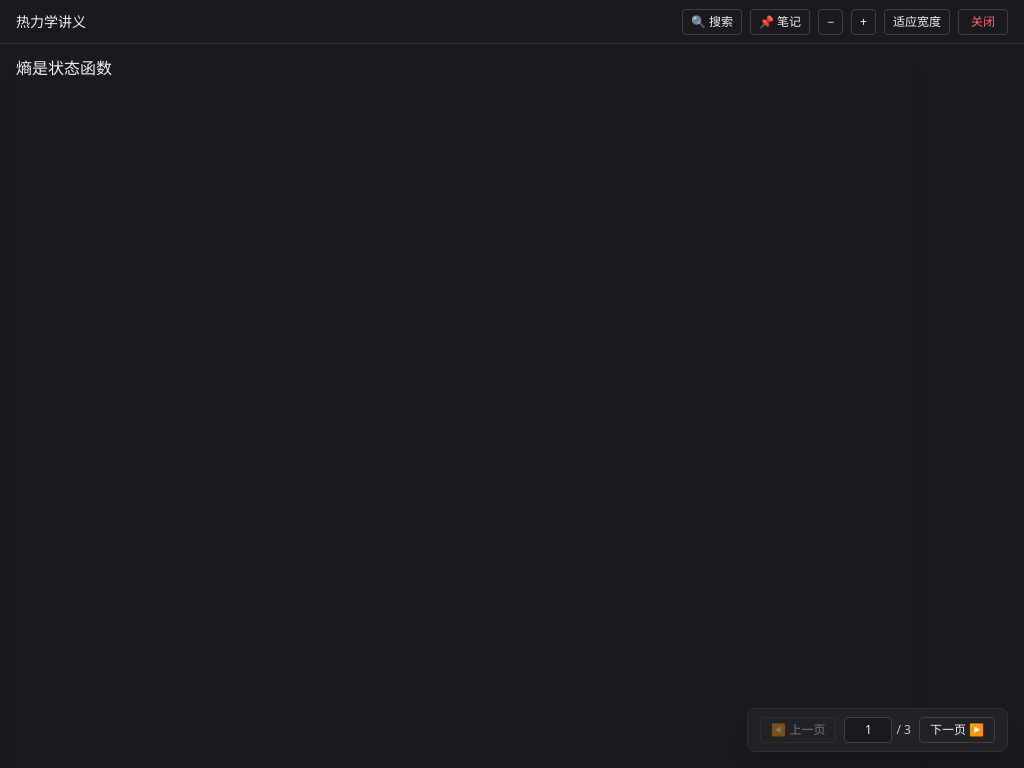
Test: PdfReaderView — navigation and zoom › pages with the footer buttons, page input and arrow keys
This screenshot has width=1024, height=768.
Click the button titled "下一页 (→)". click: (957, 730)
box: 919,717 -> 995,743
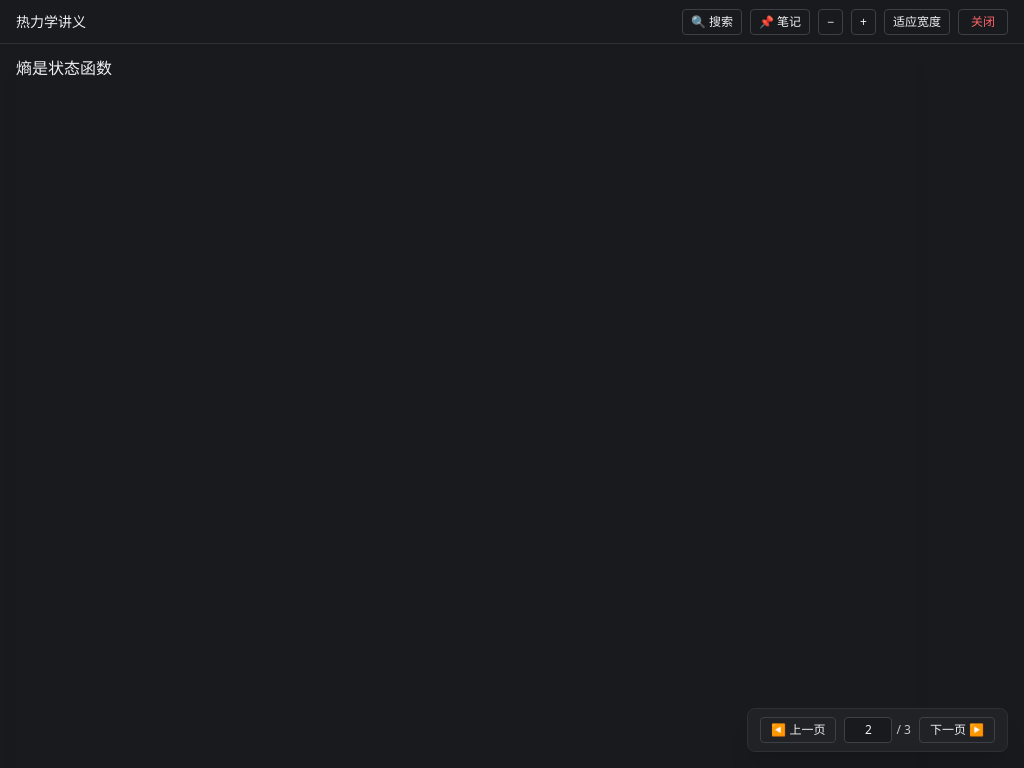
Check: the field titled "输入页码后回车跳转" holds "2", box 844,717 -> 892,743
Click the button titled "上一页 (←)". click: (798, 730)
box: 760,717 -> 836,743
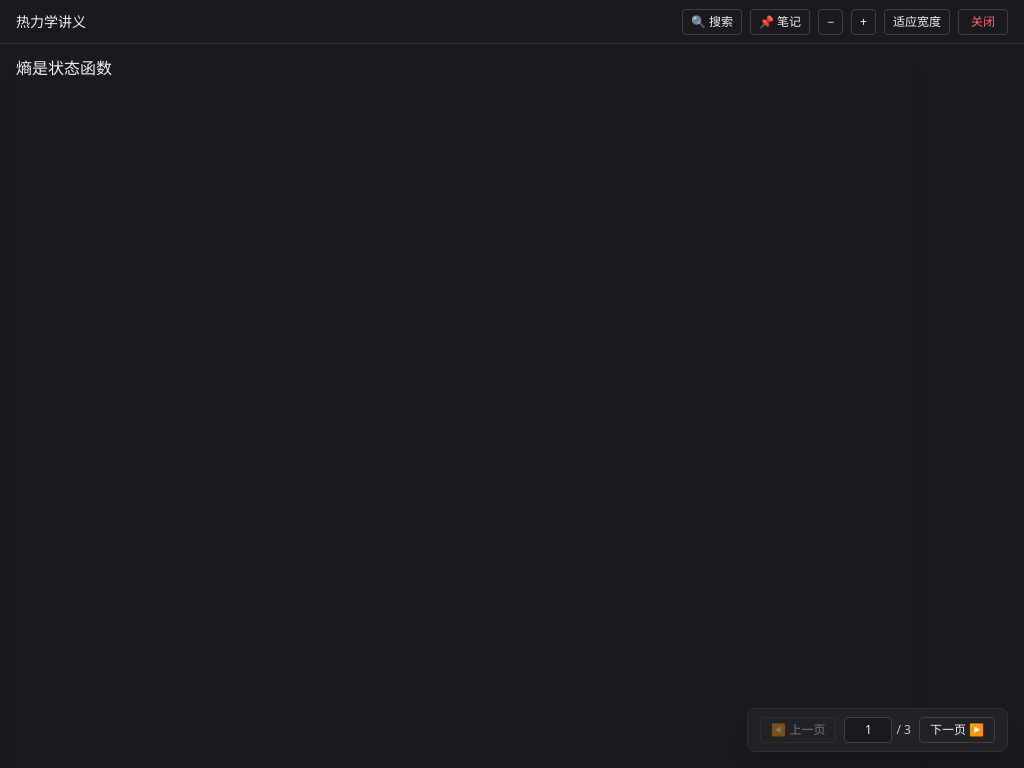
Check: the field titled "输入页码后回车跳转" holds "1", box 844,717 -> 892,743
Press ArrowRight
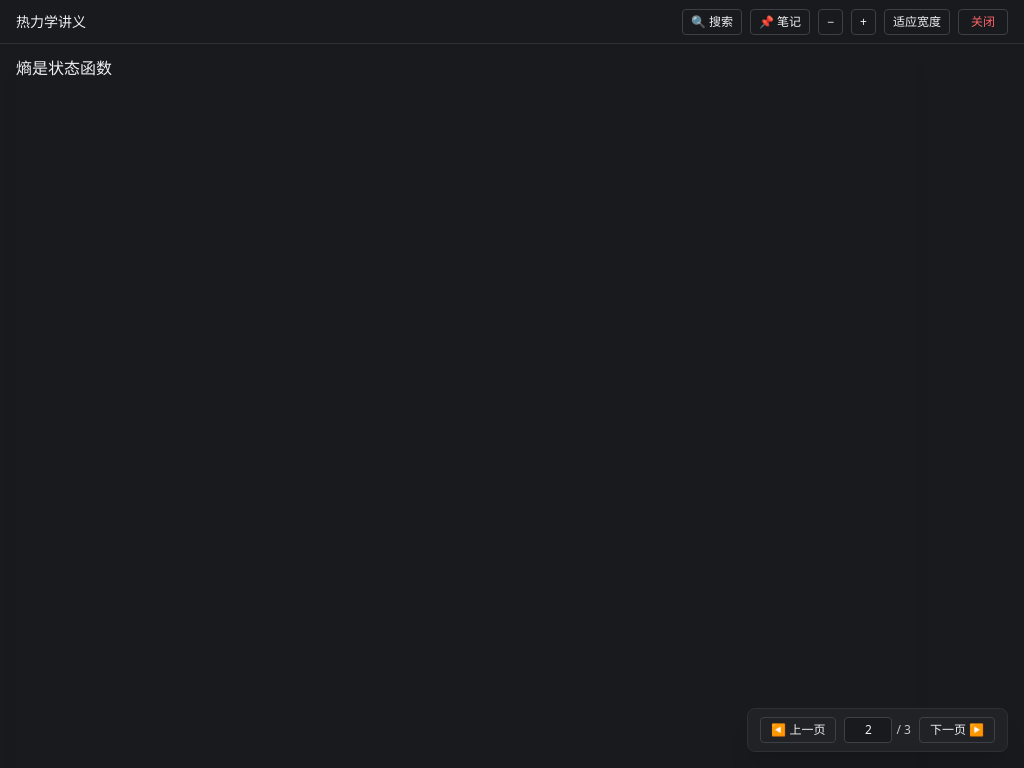
Check: the field titled "输入页码后回车跳转" holds "2"
// Out-of-range page numbers are clamped.
Replace the text in the field titled "输入页码后回车跳转" with "99". click: (868, 730)
box: 844,717 -> 892,743
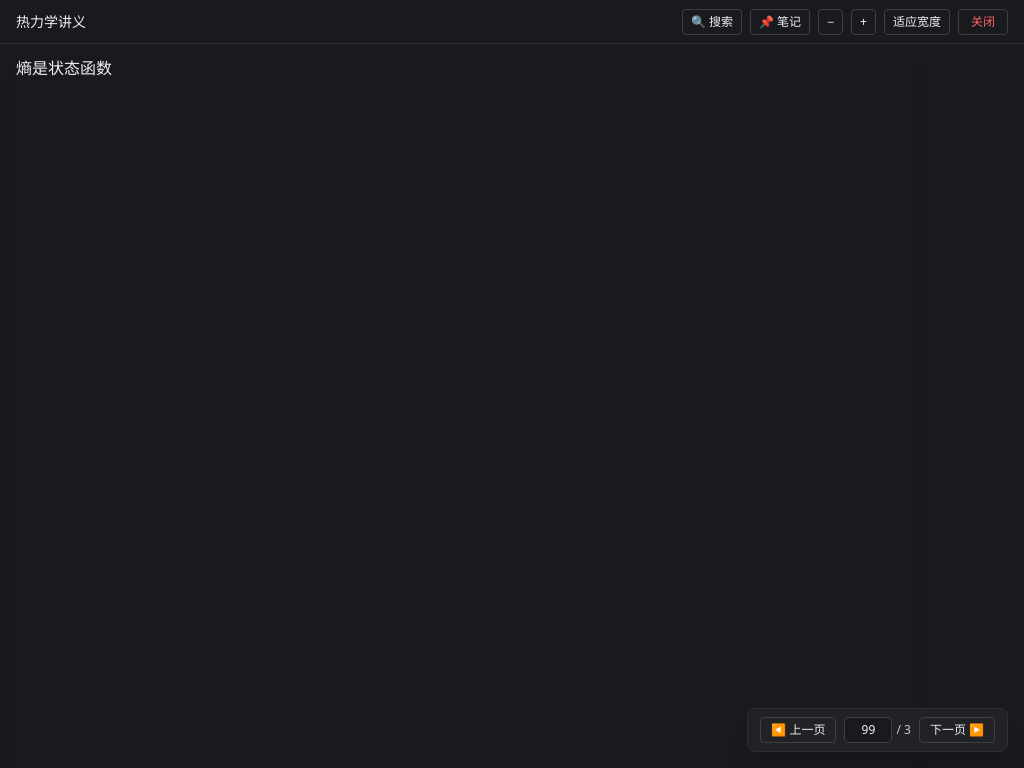
Press Enter in the field titled "输入页码后回车跳转", box 844,717 -> 892,743
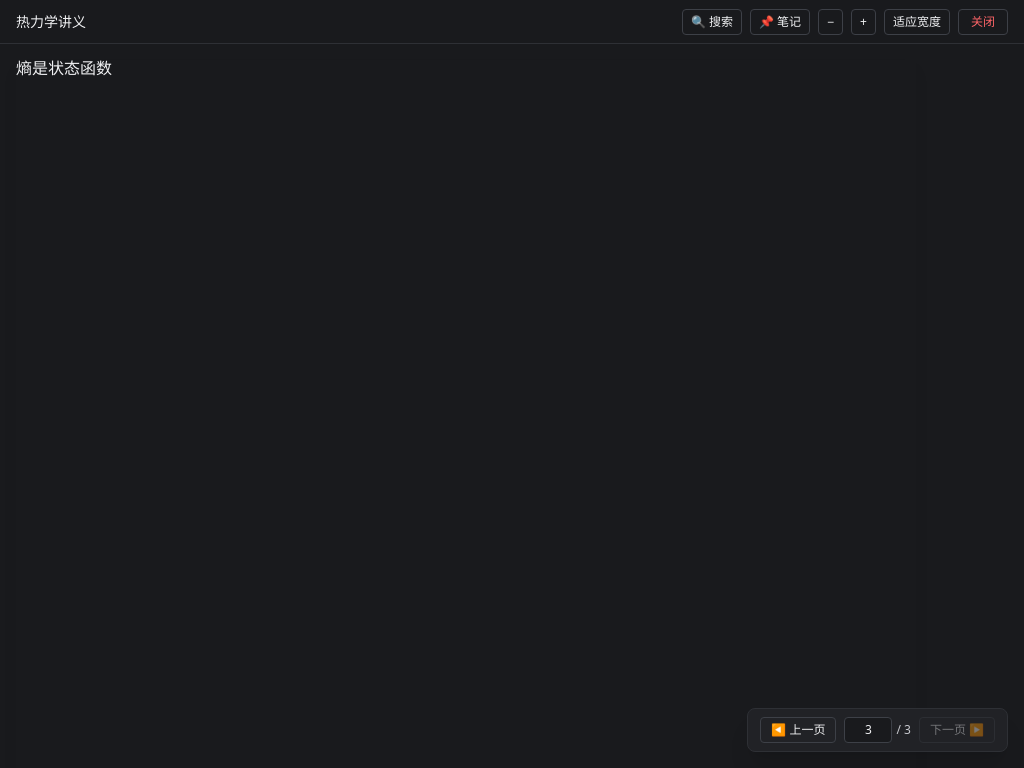
Check: the field titled "输入页码后回车跳转" holds "3", box 844,717 -> 892,743
